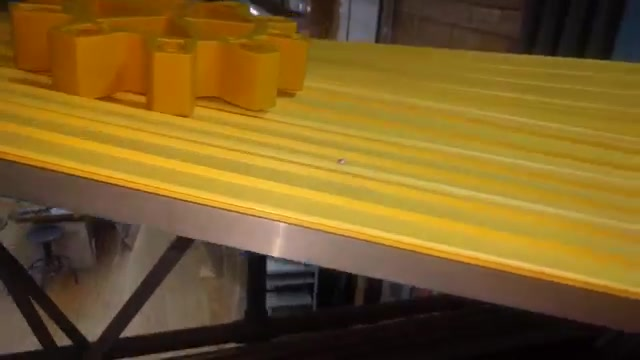gear: (10, 1, 315, 147)
